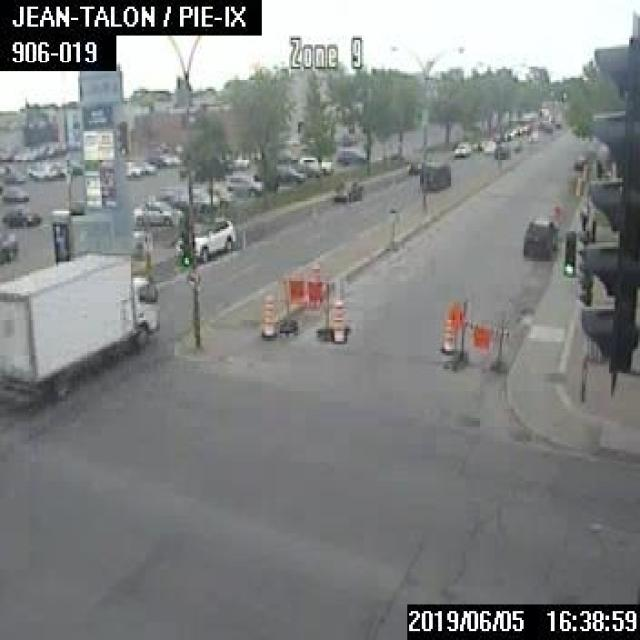construction: (276, 264, 350, 342), (443, 300, 508, 374), (260, 292, 276, 336), (329, 300, 345, 344), (439, 315, 454, 353)
pedestrian: (578, 200, 589, 233), (593, 153, 601, 180)
vehicle: (0, 249, 160, 411), (174, 211, 237, 261), (520, 215, 560, 258), (156, 184, 204, 212), (131, 198, 181, 224), (418, 160, 449, 188), (2, 204, 41, 224), (184, 186, 217, 208), (226, 174, 260, 195), (332, 177, 360, 201), (203, 184, 231, 206), (298, 155, 332, 173), (274, 164, 304, 184), (334, 147, 364, 165), (0, 227, 15, 260), (1, 184, 27, 198), (572, 149, 589, 168), (453, 140, 471, 156), (2, 167, 23, 180), (123, 160, 140, 176), (406, 156, 422, 172), (493, 143, 508, 157), (140, 159, 154, 172), (482, 140, 495, 152)
